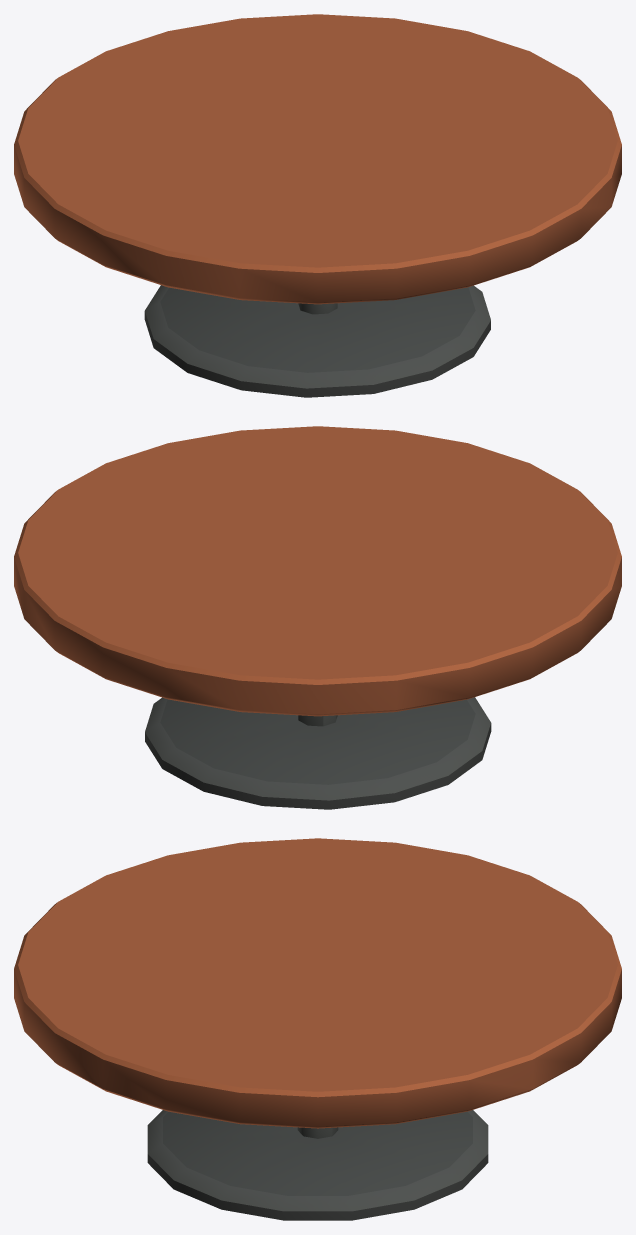
Rendered from table-round-a.glb.
3 views of the same model, one above another, from view 1: azimuth 30°, elevation 25°; view 2: azimuth 150°, elevation 25°; view 3: azimuth 270°, elevation 25° (orthographic).
Visible parts, largest first — view 1: table-round-a; view 2: table-round-a; view 3: table-round-a.
Part boxes in pixels (bbox=[...]): table-round-a: bbox=[14, 14, 621, 397]; table-round-a: bbox=[14, 426, 621, 809]; table-round-a: bbox=[14, 838, 621, 1220].
Bounding box in the file's own units: 1.3 × 0.4333 × 1.3.
